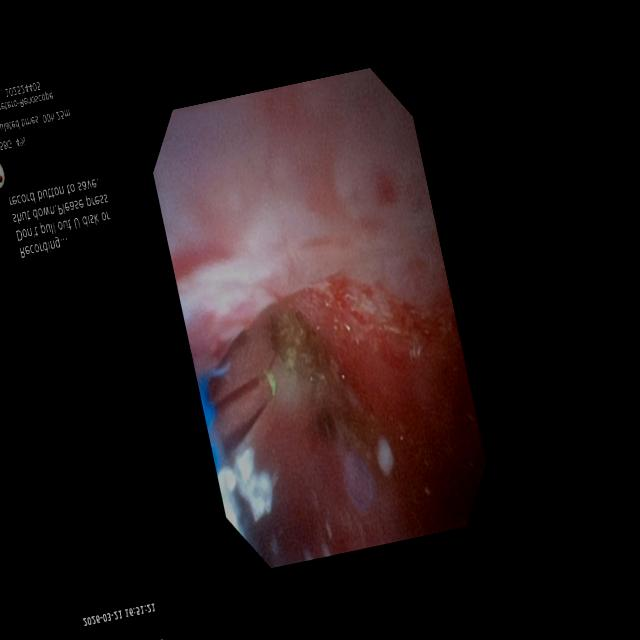laser-fibre: (213, 372, 273, 449)
stone-new: (271, 309, 326, 382)
